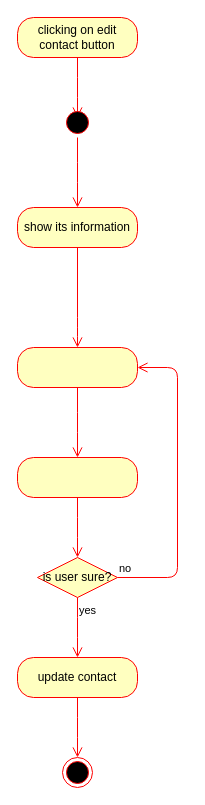
Some shapes in this 205 by 805 pixel diagram are drawn without their labels. The centre of each missing label's shape, as x and y in pixels:
"click on confirmation button" goes at point 77,477.
"get new information" goes at point 77,367.
